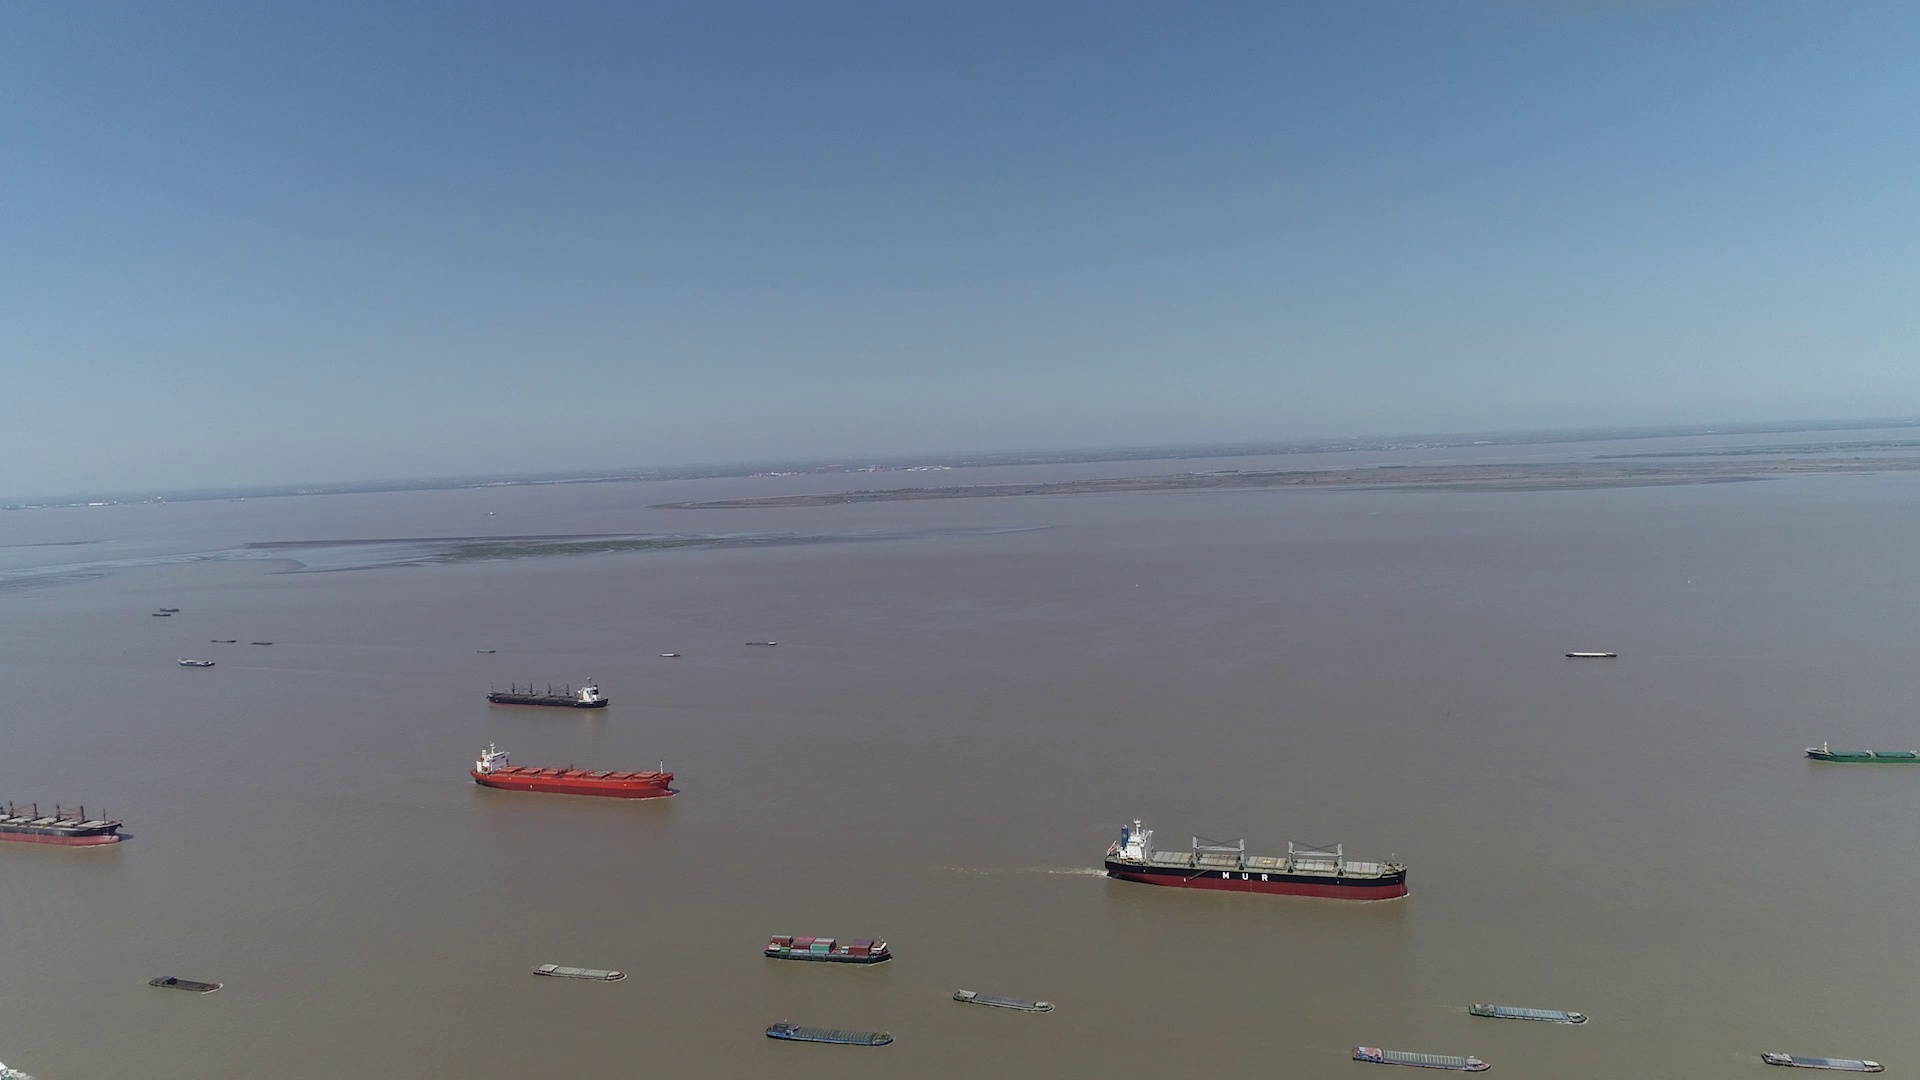ship: (1101, 820, 1411, 902), (468, 738, 673, 796), (0, 787, 125, 847), (754, 1001, 901, 1034), (1352, 1044, 1491, 1073), (764, 934, 891, 965), (485, 679, 611, 709), (764, 1021, 895, 1047), (1760, 1048, 1882, 1072), (1804, 740, 1917, 764), (955, 988, 1058, 1013), (1472, 1002, 1585, 1025), (530, 963, 626, 982), (149, 975, 222, 993), (1564, 650, 1618, 659), (179, 658, 216, 669)
